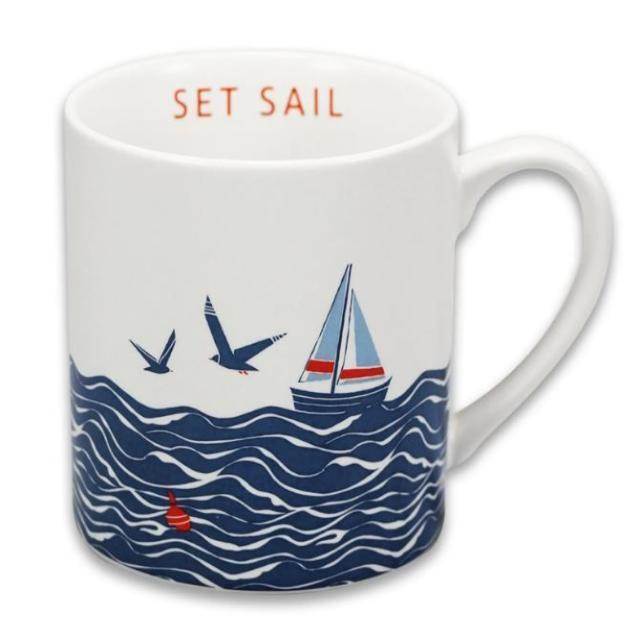glass cup: (61, 48, 614, 595)
